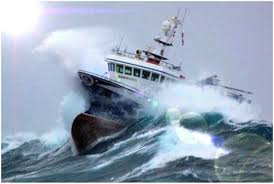tau_dansu: (82, 33, 242, 155)
